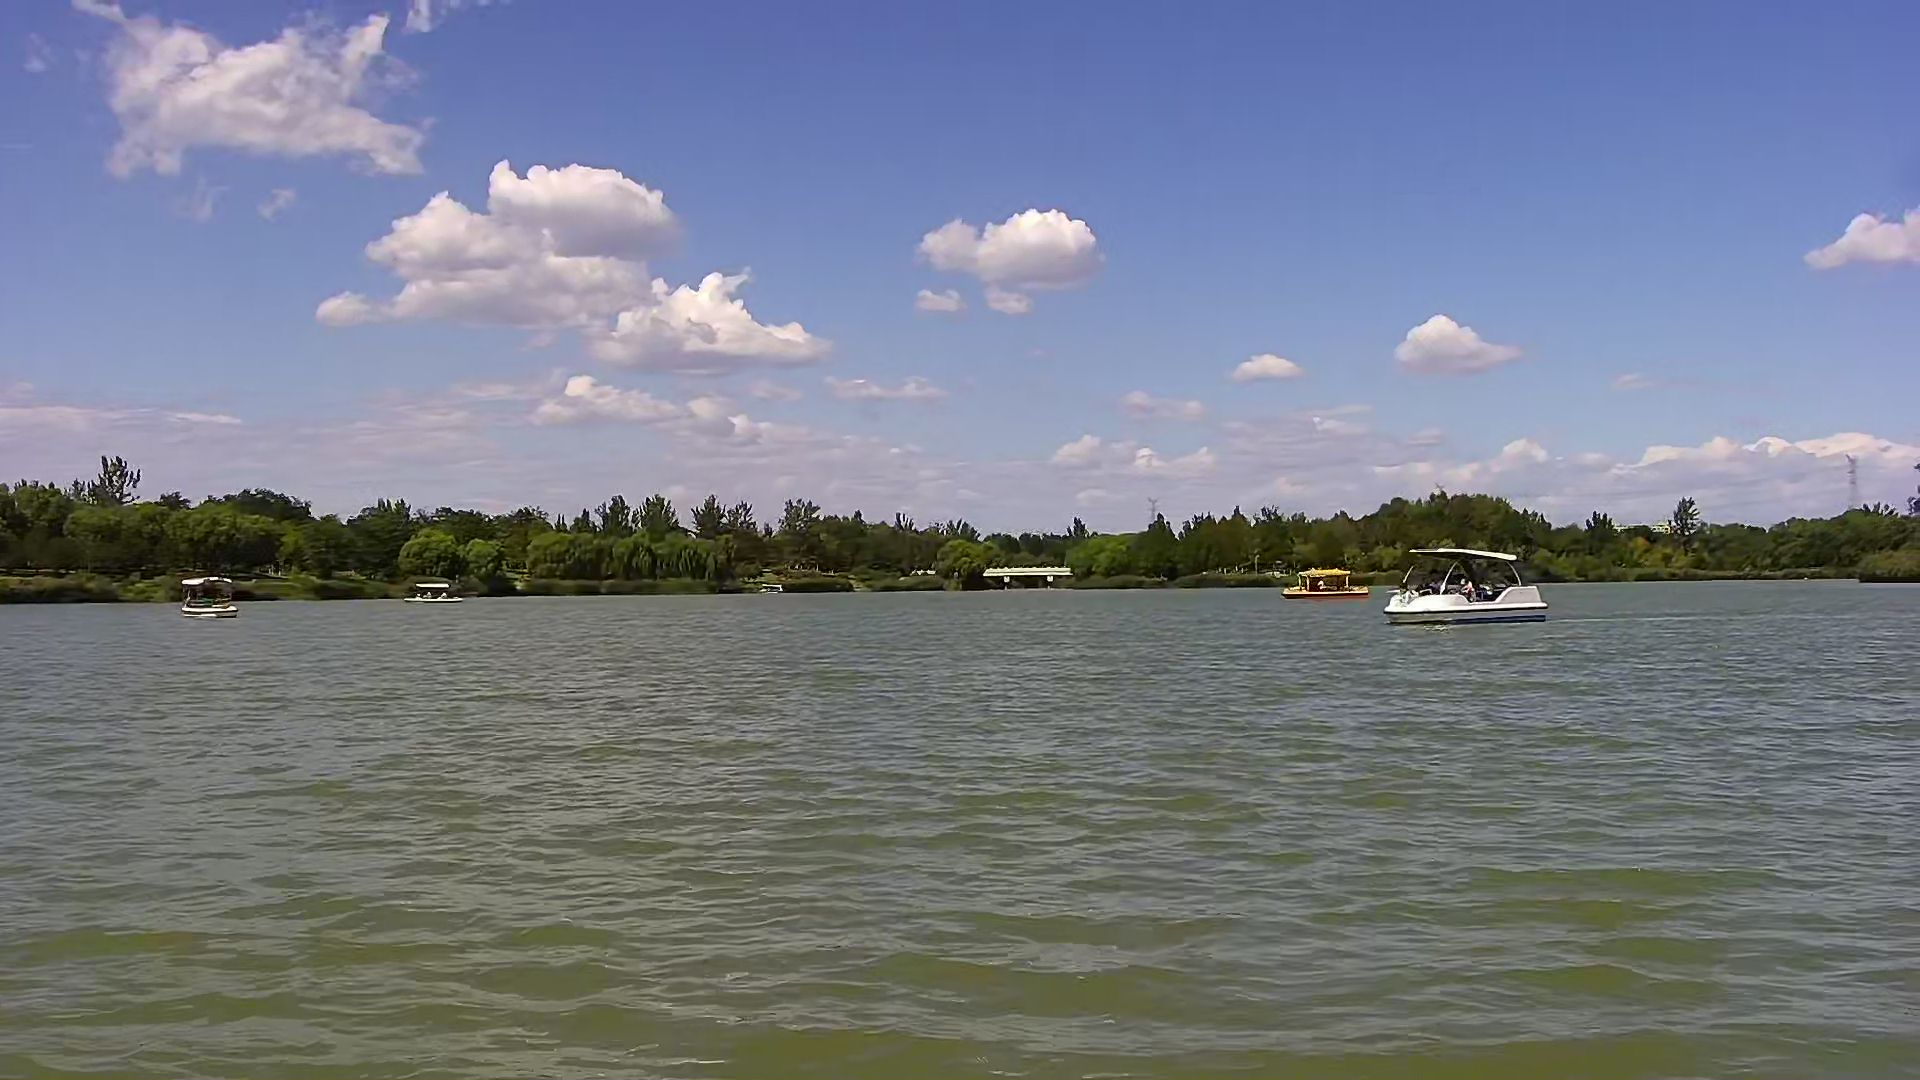boat: (1382, 542, 1548, 622), (1286, 567, 1367, 600), (185, 574, 233, 618), (404, 580, 465, 608)
bridge: (986, 564, 1073, 593)
